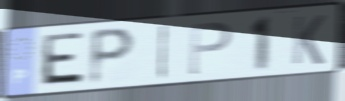1: (249, 13, 276, 75)
E: (37, 30, 86, 88)
I: (156, 22, 170, 81)
K: (290, 13, 328, 67)
P: (86, 25, 137, 88), (187, 20, 234, 78)
